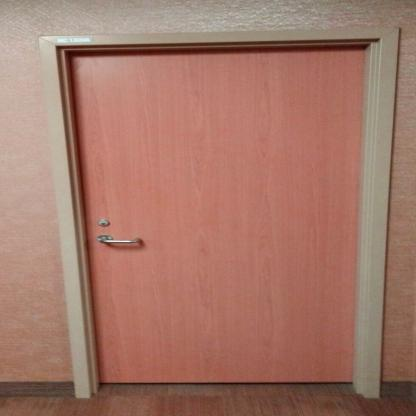door: (87, 46, 360, 381)
lever: (99, 236, 142, 246)
